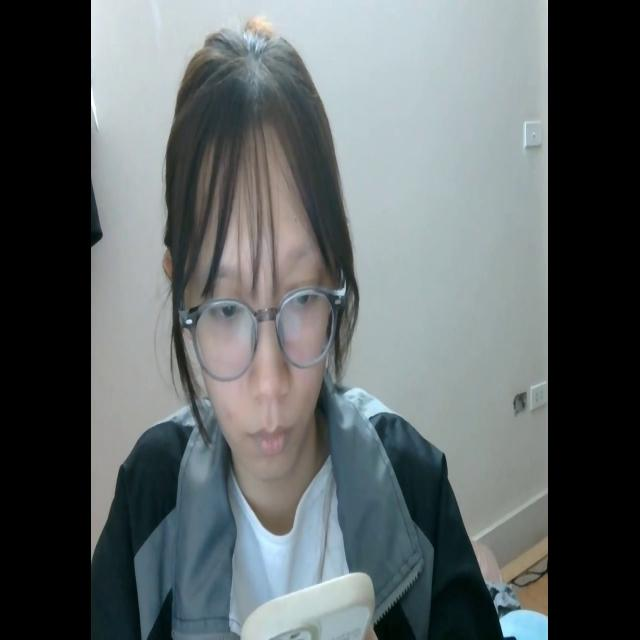phone: (239, 566, 374, 640)
student: (94, 28, 494, 640)
